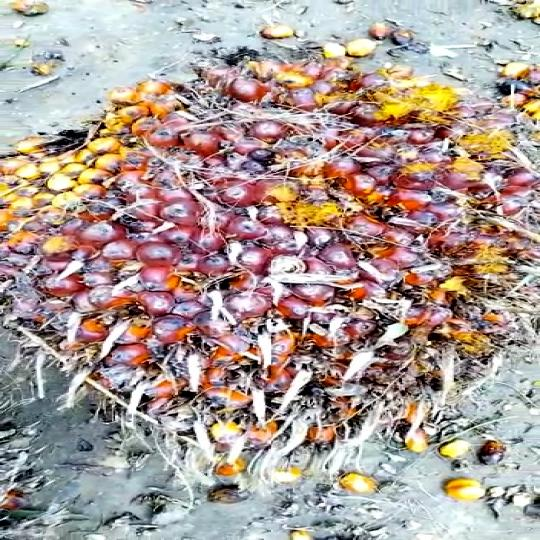masak: (0, 59, 540, 457)
